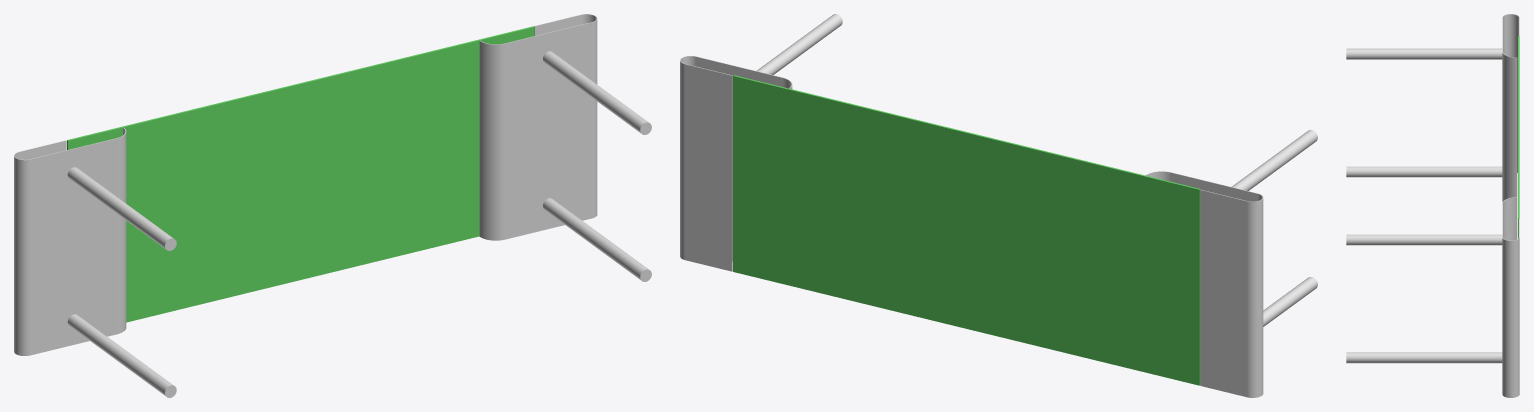
Rendered from Desk.FBX.
The picture shows the model from 3 angles, left to right: view 1: azimuth 30°, elevation 25°; view 2: azimuth 150°, elevation 25°; view 3: azimuth 270°, elevation 25°; orthographic projection. The views are drawn at different scales.
Parts seen in each view (by area): view 1: Extrude9, Extrude10[1], Extrude10[2]; view 2: Extrude9, Extrude10[2], Extrude10[1]; view 3: Extrude10[1], Extrude10[2], Extrude9.
Boxes of the visible parts, x1,y1,x2,y2 form: Extrude9: (67,26,534,322); Extrude10[1]: (479,14,651,281); Extrude10[2]: (14,127,176,397); Extrude9: (733,75,1200,385); Extrude10[2]: (1145,130,1317,397); Extrude10[1]: (680,14,842,271); Extrude10[1]: (1346,197,1519,397); Extrude10[2]: (1346,14,1519,201); Extrude9: (1518,36,1519,238).
Bounding box in the file's own units: 97.64 × 31.5 × 31.5.
